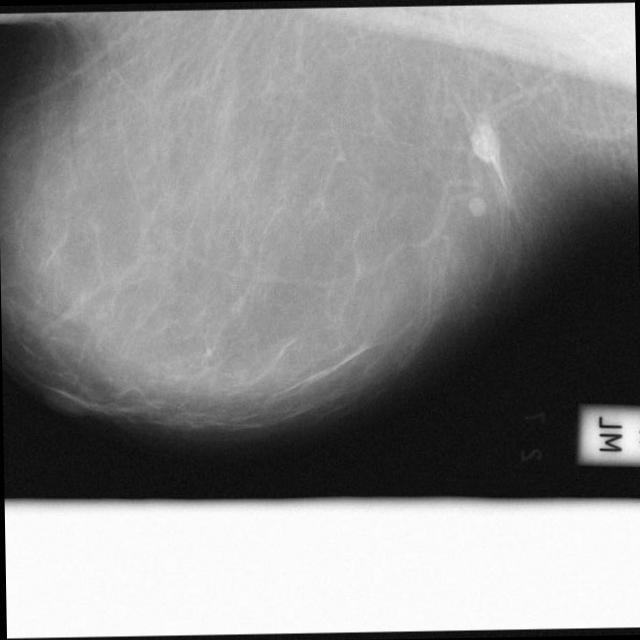CIRC: (457, 121, 522, 188)
